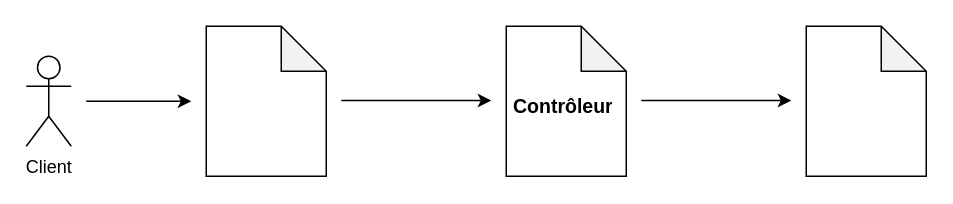
Image size: 953x204. Some labels were removed from this diagram. The shapes that lost their labels are listed below. From the top down, each one's box as (x1, y1, x2, y2) in pixels, then its label:
(205, 25, 326, 176): Routeur index.php
(805, 25, 926, 176): Modèle
